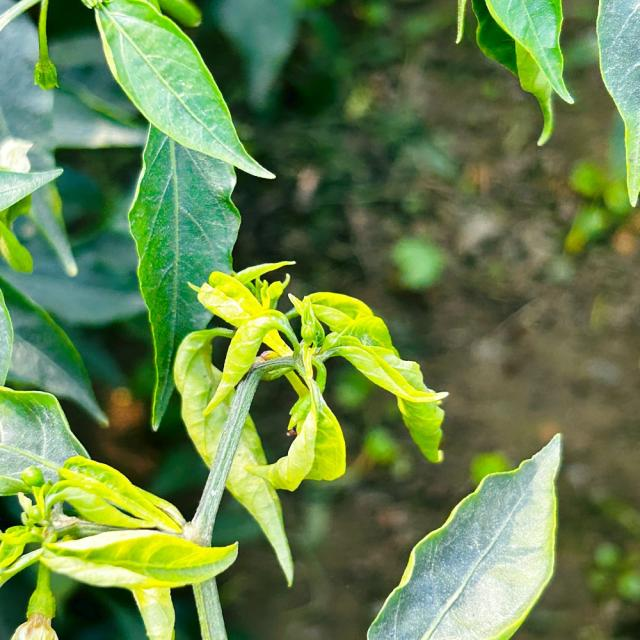Chilli_Leaf_Curl: (1, 0, 564, 638), (172, 258, 448, 586), (91, 1, 276, 431), (1, 384, 239, 638), (366, 431, 564, 639), (455, 0, 639, 206), (126, 120, 242, 432), (90, 0, 276, 180), (0, 280, 110, 428), (466, 0, 575, 146), (39, 527, 239, 591), (55, 454, 186, 534), (0, 384, 92, 496), (594, 0, 638, 207)
